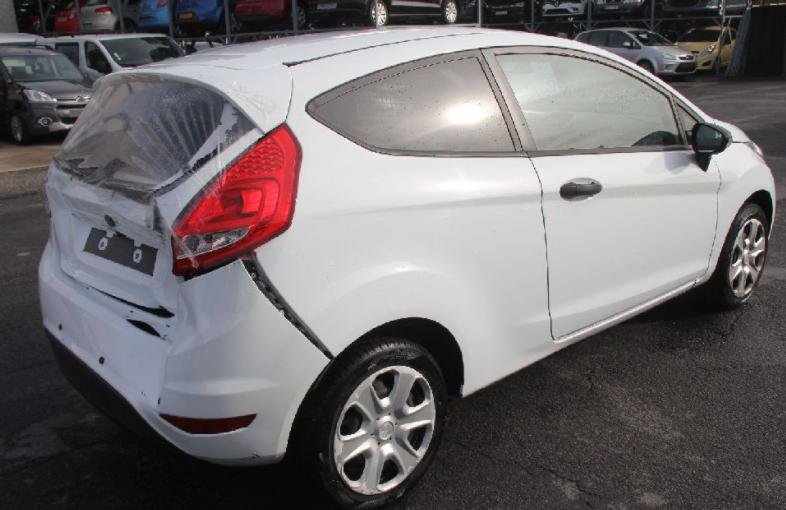Back-bumper: (38, 216, 332, 467)
Back-wheel: (284, 332, 447, 510)
Back-windshield: (59, 81, 235, 192)
Fender: (700, 142, 776, 277)
Front-door: (479, 44, 721, 340)
Front-wheel: (710, 202, 768, 304)
Headlight: (743, 143, 764, 158)
Hood: (710, 117, 755, 144)
Mirror: (690, 122, 733, 173)
Quarter-panel: (252, 156, 553, 378)
Rocker-panel: (462, 270, 716, 399)
Roof: (136, 26, 592, 124)
Tail-light: (171, 122, 302, 276), (42, 170, 51, 217)
Trunk: (46, 64, 292, 318)
